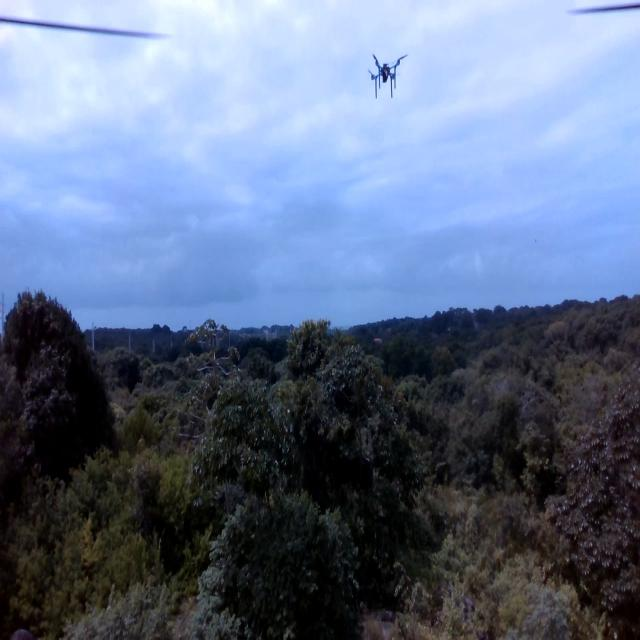-uav-: (355, 44, 419, 112)
